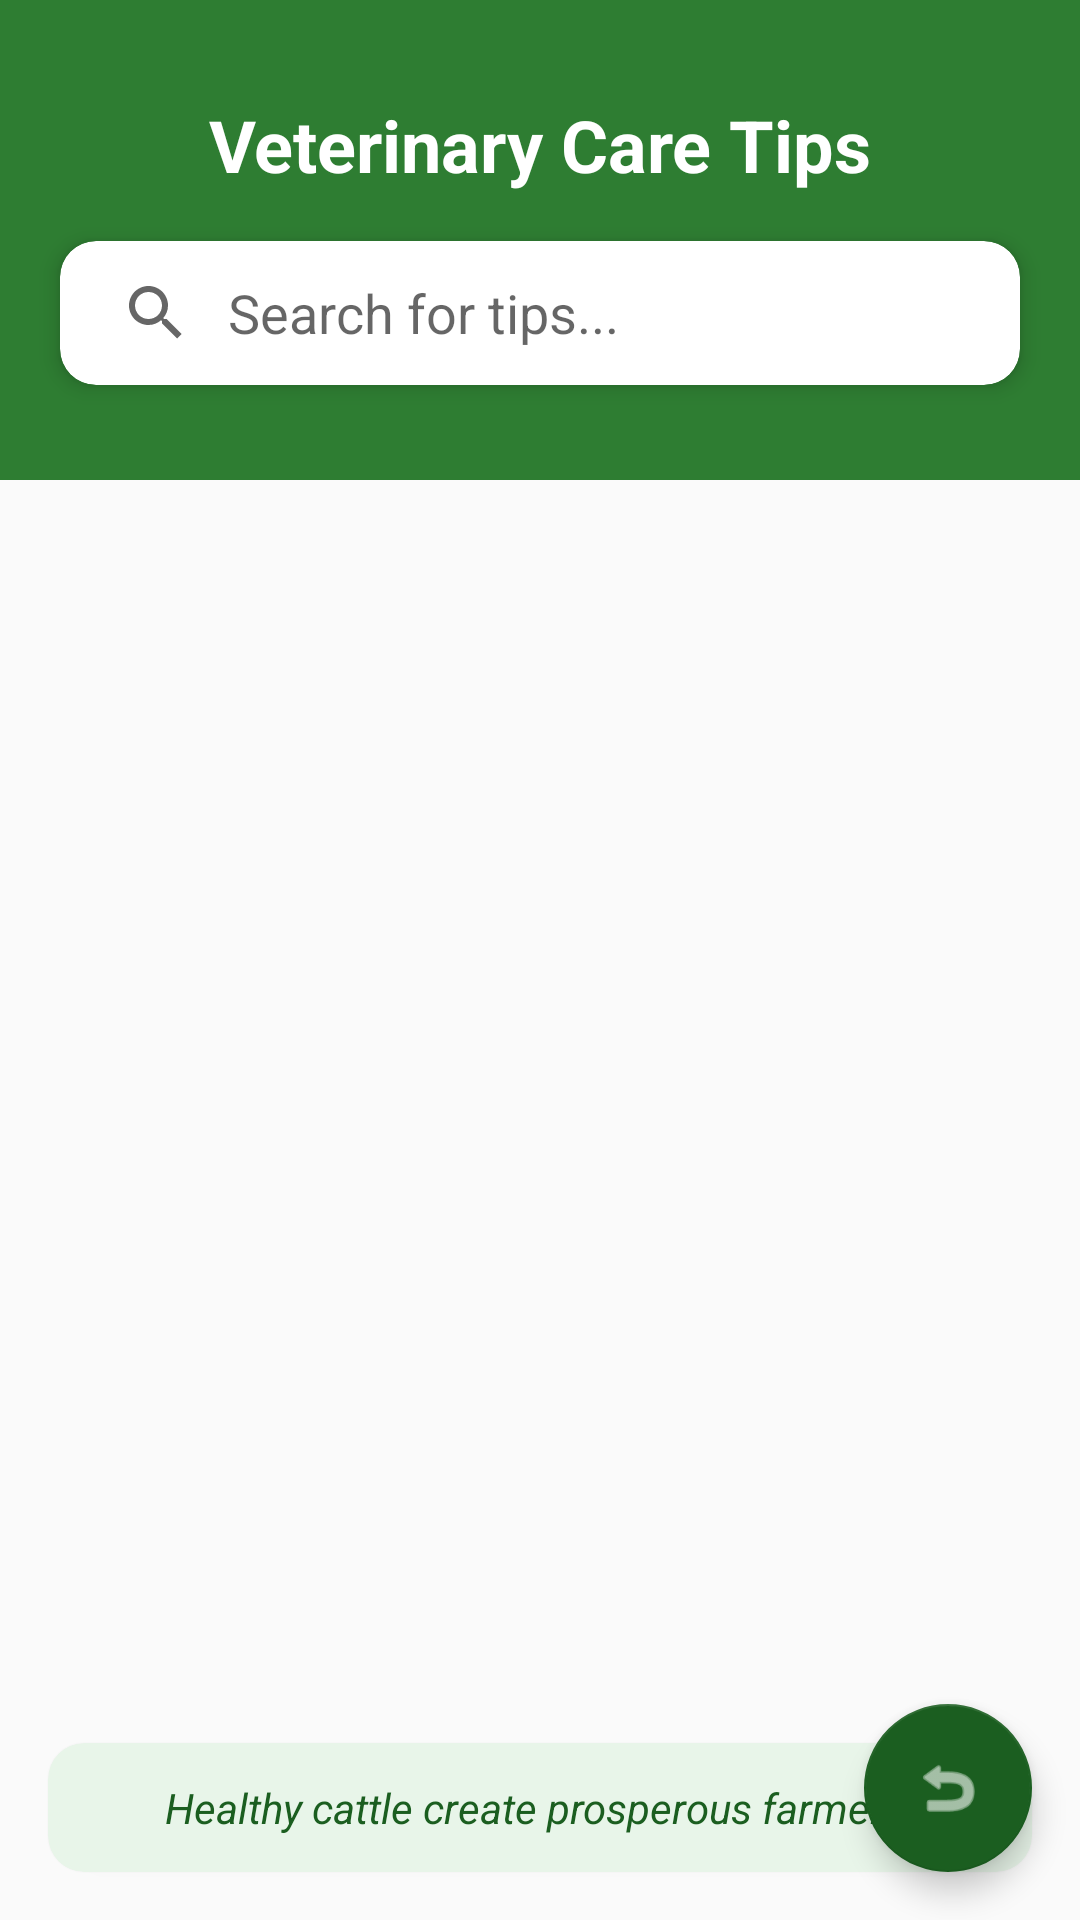

Named icons in this screenshot (1080w x 1920h) and their bounding boxes, (x1, y1, x2, y2):
Back: (864, 1704, 1032, 1872)
